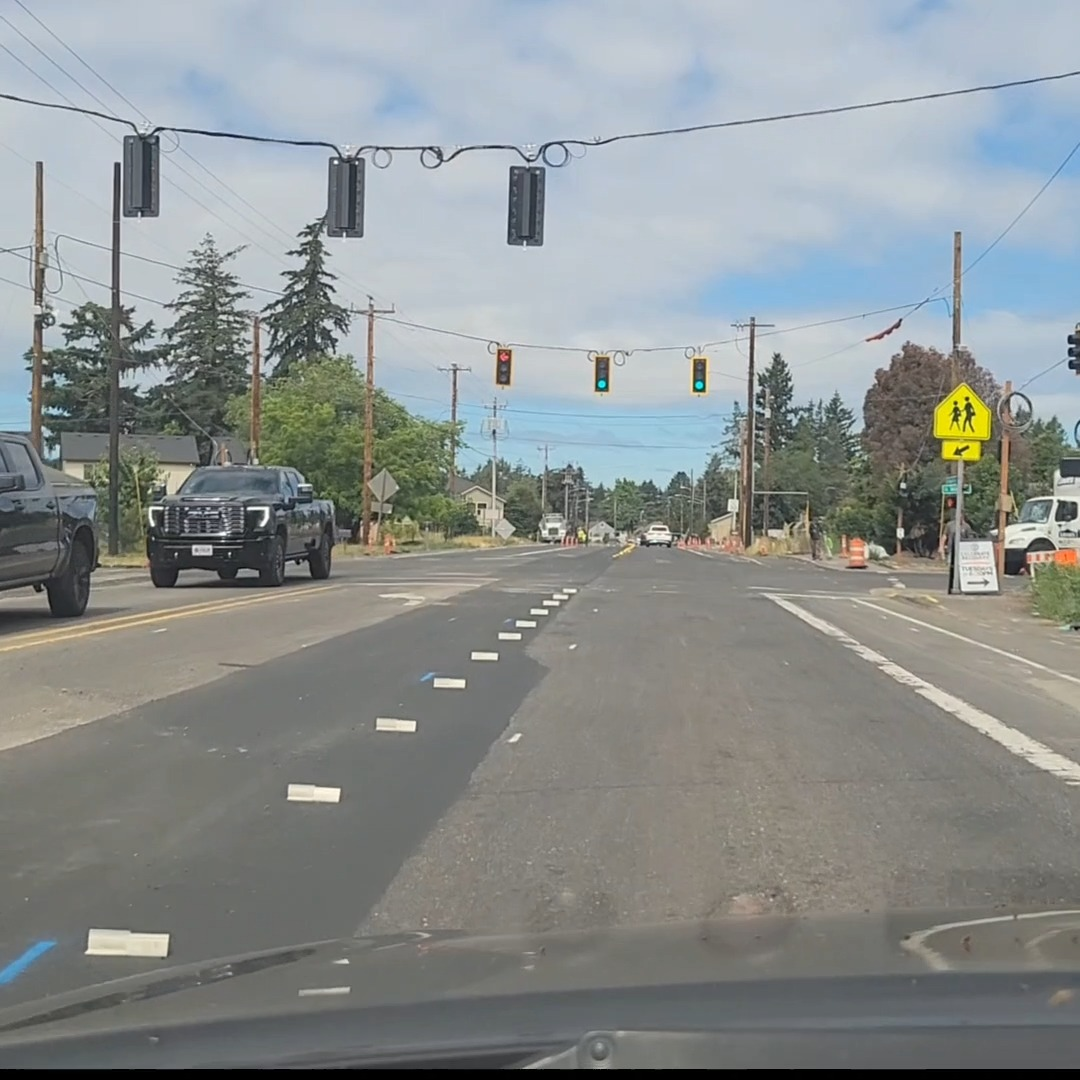car: (0, 426, 100, 616), (639, 524, 673, 547)
crosswalk-sign: (932, 381, 993, 449)
delineator: (365, 521, 378, 550), (383, 533, 395, 554), (757, 538, 768, 555), (840, 534, 847, 555)
